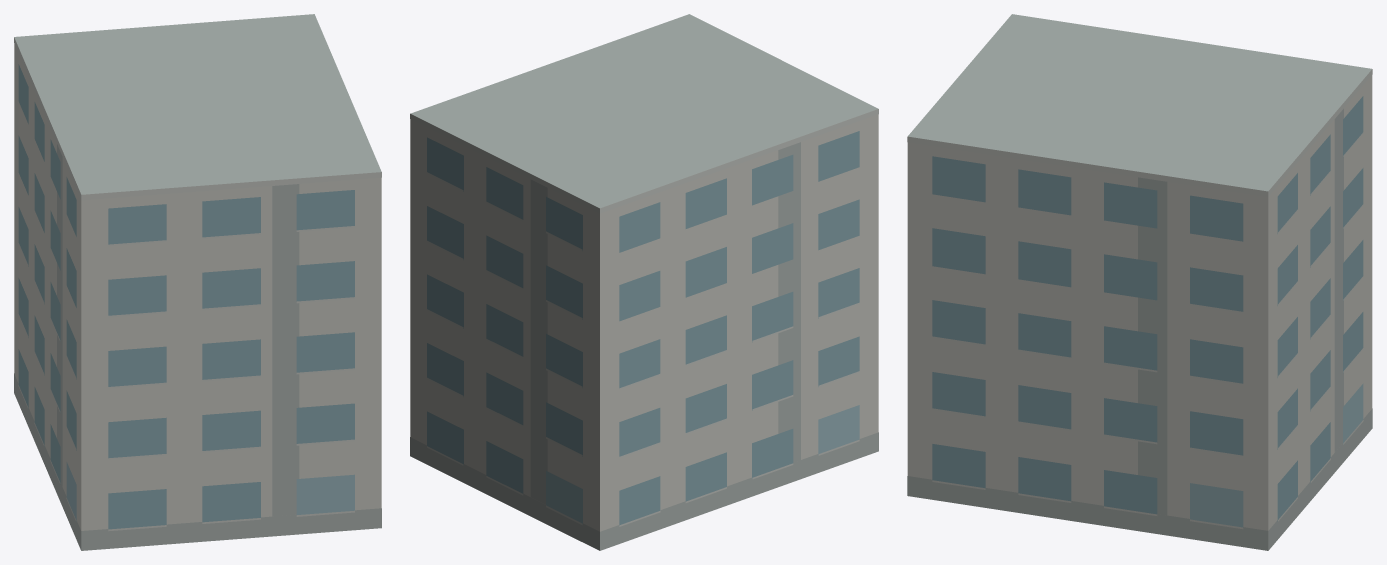
File: residential-62a6a7ee-b5a8-4053-9878-92a819d99fe6.glb
The picture shows the model from 3 angles, left to right: view 1: azimuth 30°, elevation 25°; view 2: azimuth 150°, elevation 25°; view 3: azimuth 270°, elevation 25°; orthographic projection. The views are drawn at different scales.
Visible parts, largest first — view 1: residential-62a6a7ee-b5a8-4053-9878-92a819d99fe6.tmp; view 2: residential-62a6a7ee-b5a8-4053-9878-92a819d99fe6.tmp; view 3: residential-62a6a7ee-b5a8-4053-9878-92a819d99fe6.tmp.
Part boxes in pixels (left/top/right/bottom): residential-62a6a7ee-b5a8-4053-9878-92a819d99fe6.tmp: left=14, top=14, right=381, bottom=550; residential-62a6a7ee-b5a8-4053-9878-92a819d99fe6.tmp: left=410, top=14, right=878, bottom=550; residential-62a6a7ee-b5a8-4053-9878-92a819d99fe6.tmp: left=907, top=14, right=1372, bottom=550.
Bounding box in the file's own units: 16.15 × 15.25 × 17.89.
